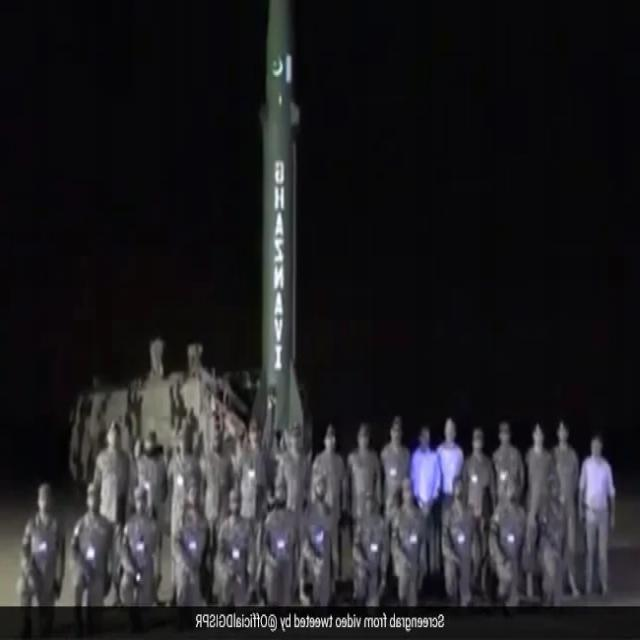Missile: (249, 0, 308, 420)
